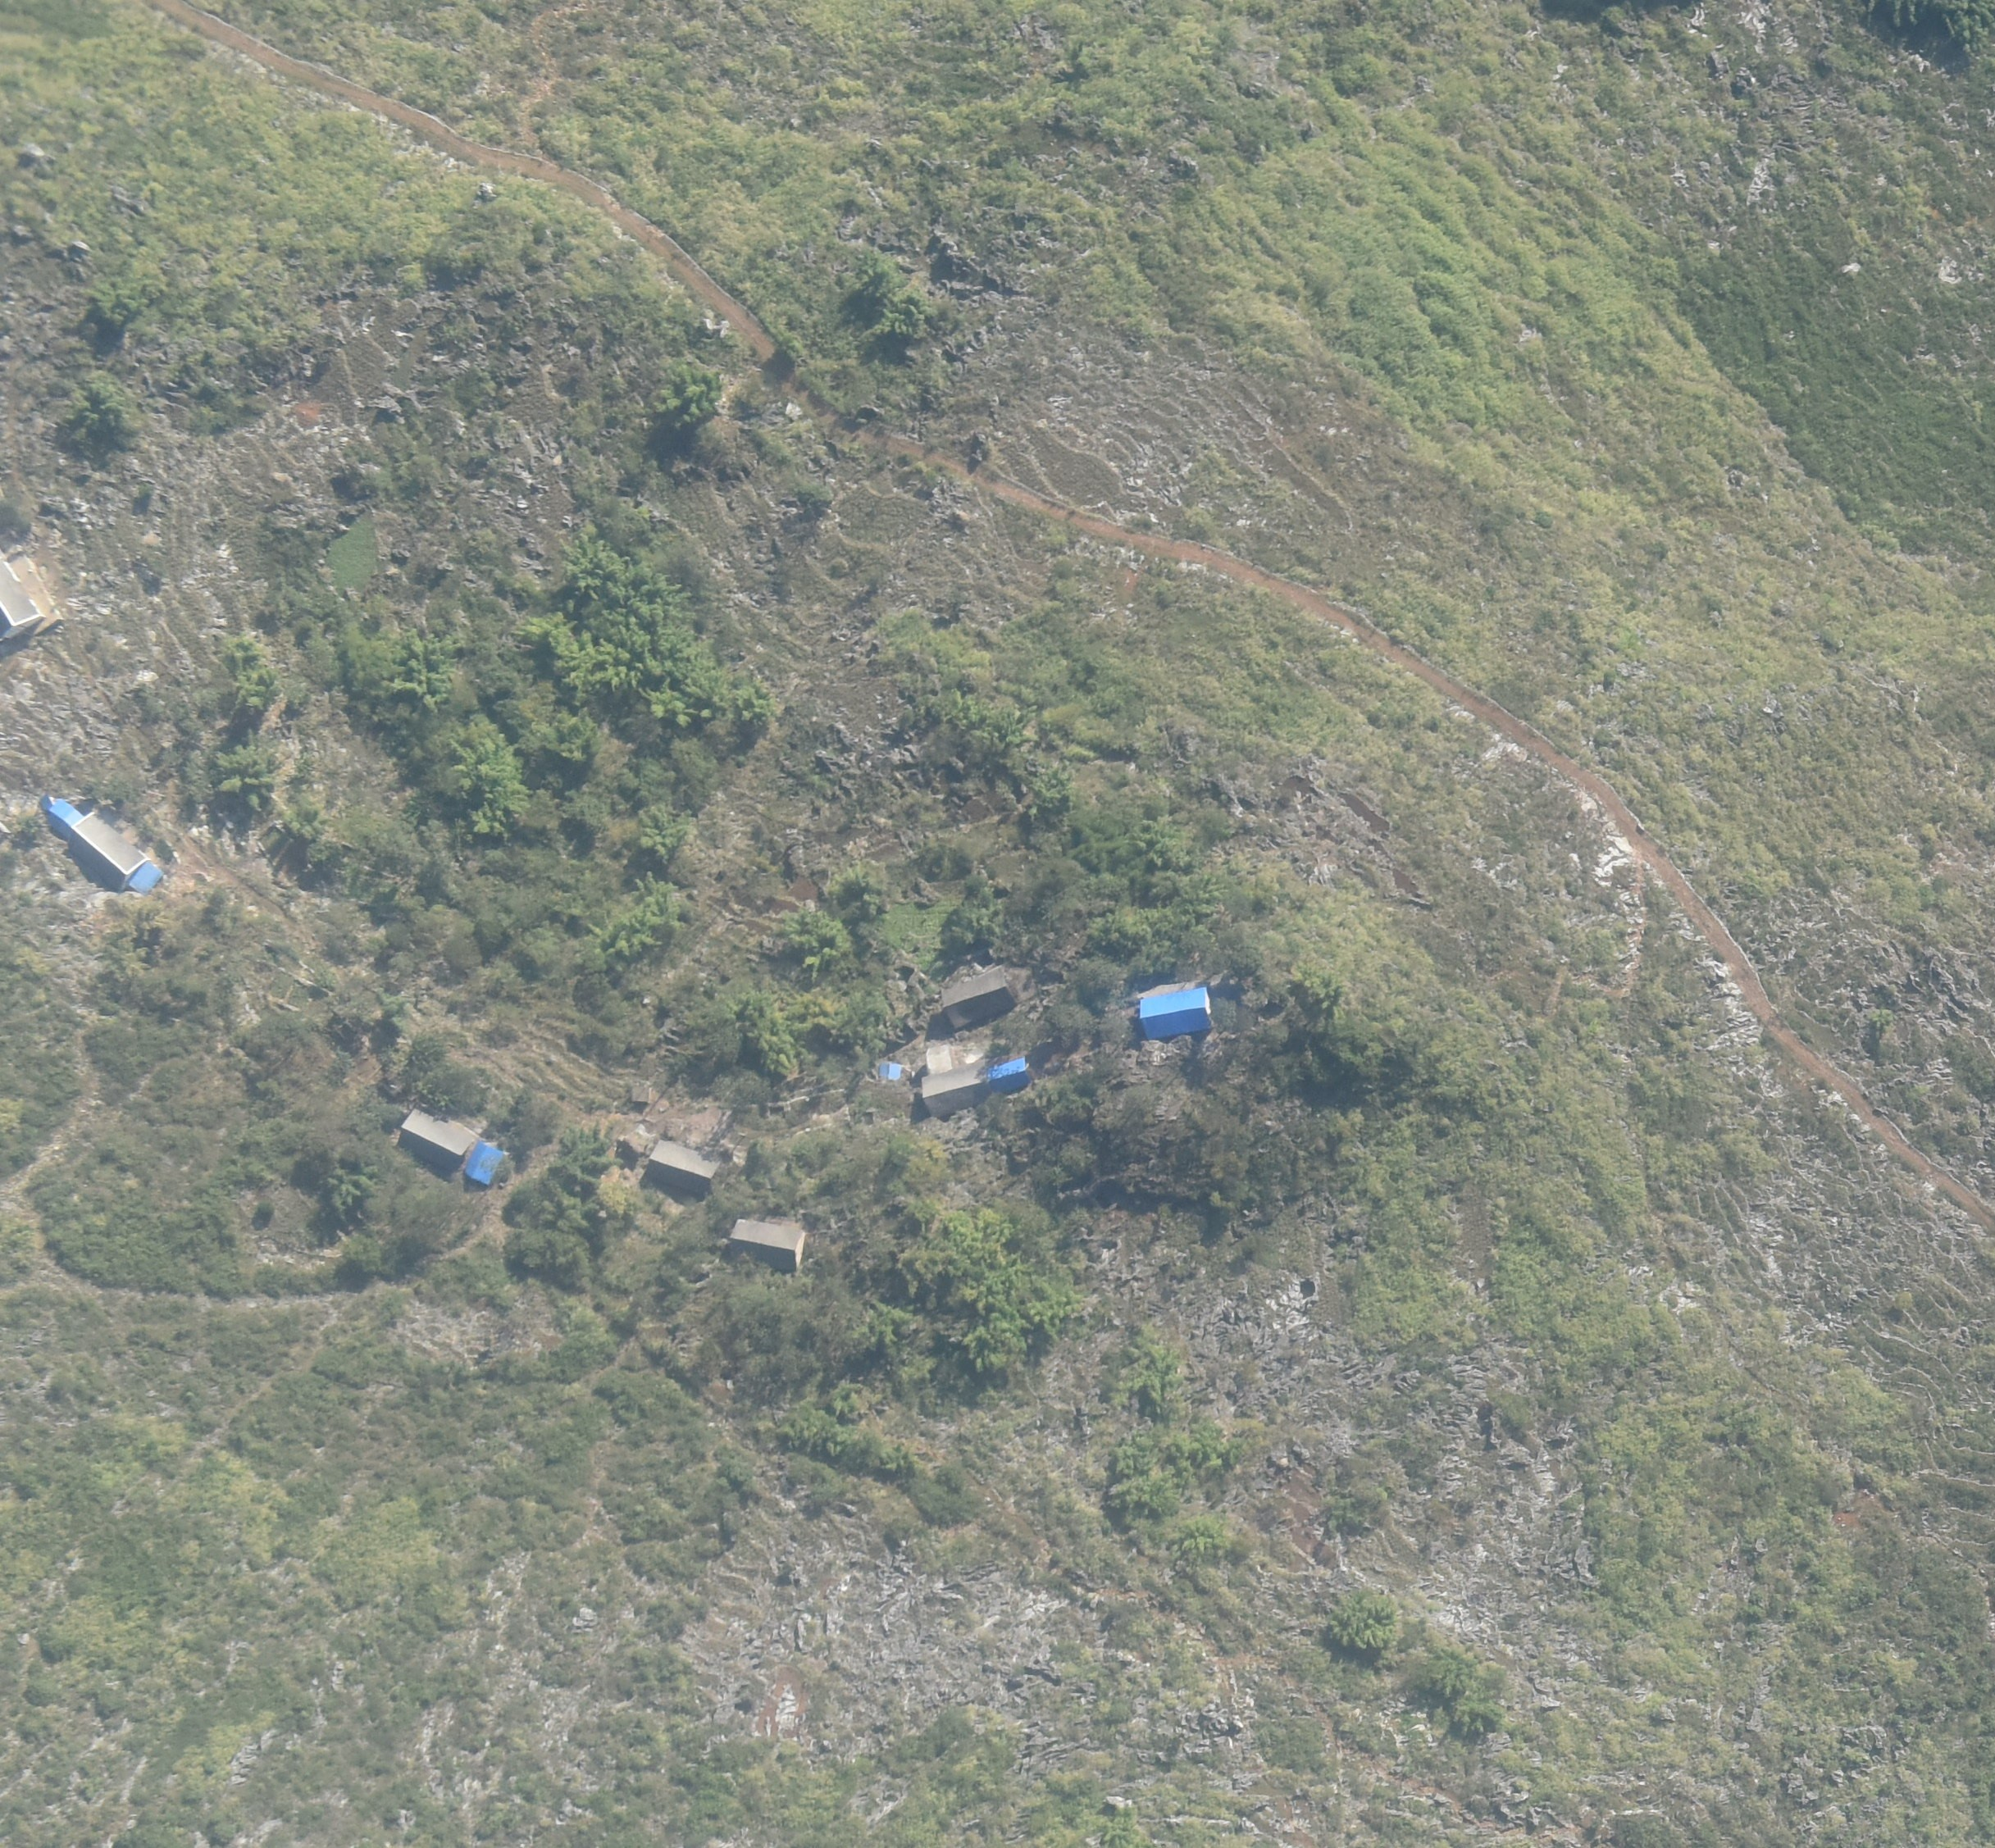building: (70, 813, 146, 890), (1, 558, 63, 640), (922, 1045, 991, 1118), (400, 1106, 476, 1171), (941, 970, 1015, 1029), (731, 1218, 805, 1272), (648, 1140, 720, 1191), (631, 1087, 649, 1104)
prefabricated-house: (1141, 986, 1215, 1037), (463, 1139, 500, 1186), (988, 1057, 1031, 1092), (47, 799, 82, 835), (130, 860, 163, 895), (877, 1060, 901, 1079)
